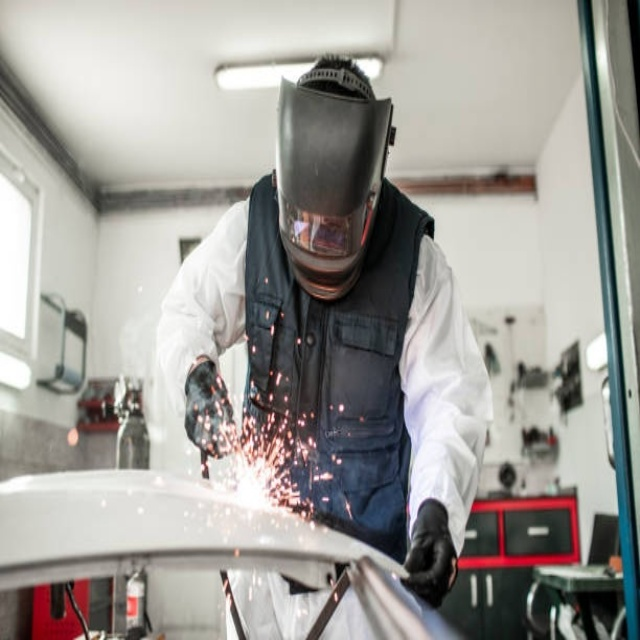Guantes: (402, 498, 458, 610), (183, 358, 235, 461)
